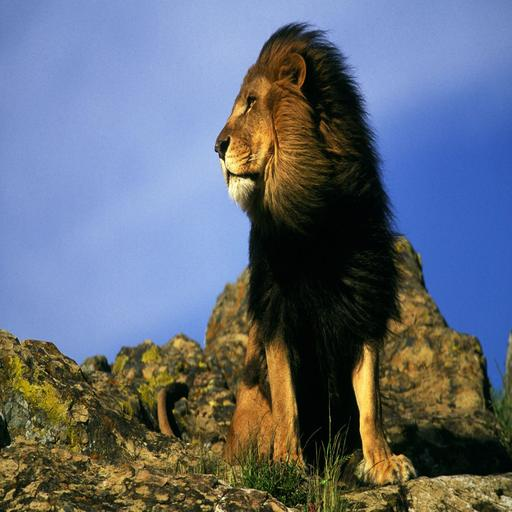Lion: (185, 10, 426, 505)
